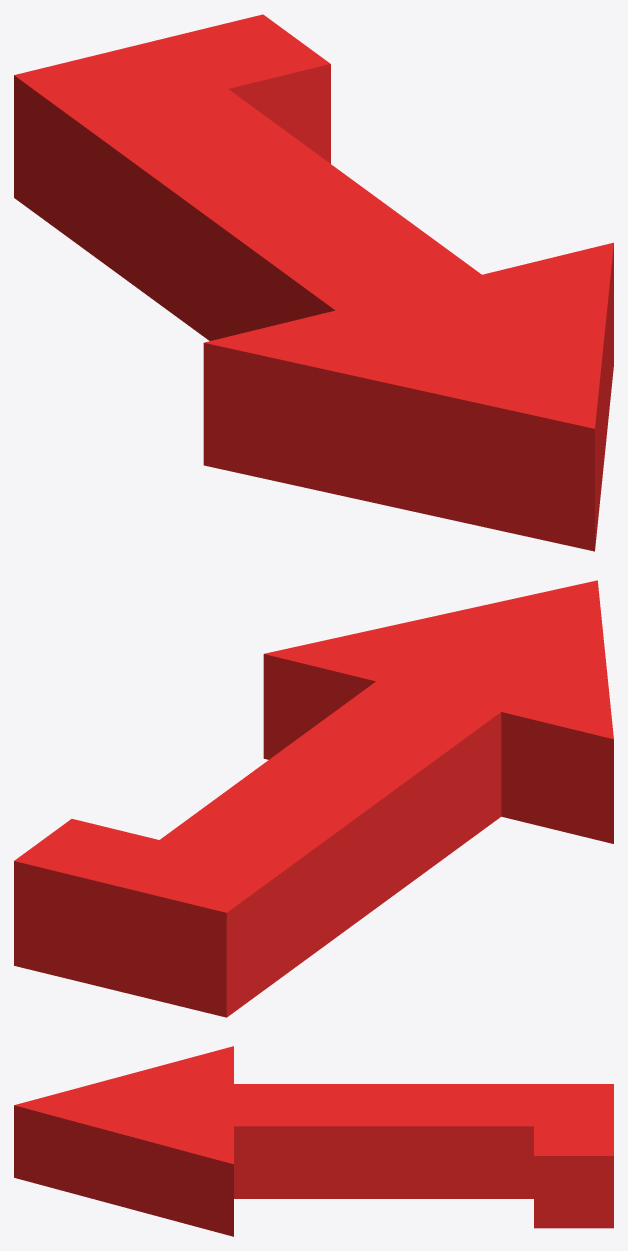
File: CAL_Arrow.fbx
The picture shows the model from 3 angles, top to bottom: view 1: azimuth 30°, elevation 25°; view 2: azimuth 150°, elevation 25°; view 3: azimuth 270°, elevation 25°; orthographic projection. The views are drawn at different scales.
Visible parts, largest first — view 1: CAL_Arrow; view 2: CAL_Arrow; view 3: CAL_Arrow.
Part boxes in pixels (<box>): CAL_Arrow: <box>14,14,613,551</box>; CAL_Arrow: <box>14,580,613,1017</box>; CAL_Arrow: <box>14,1046,613,1236</box>.
Size of the model in its own units: 1.4 by 0.4 by 3.
